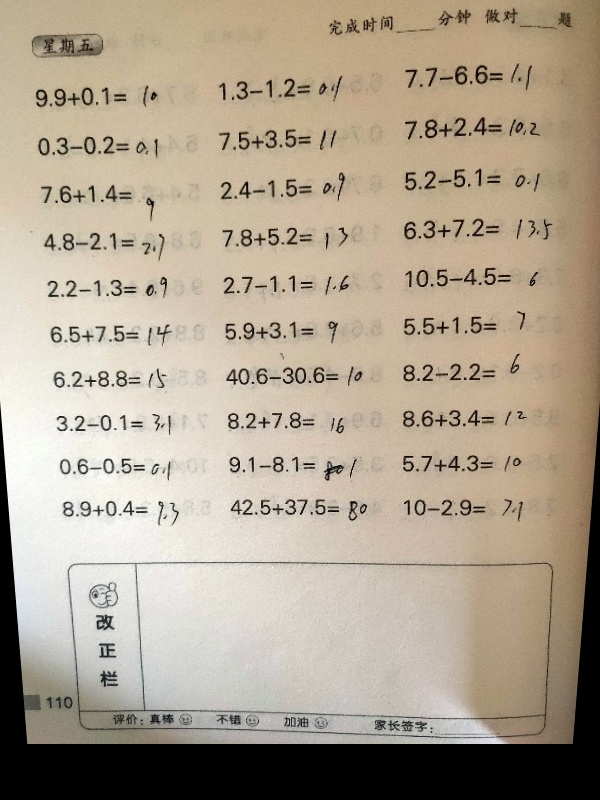equation: (394, 53, 543, 101), (389, 107, 549, 149), (228, 445, 378, 488), (225, 491, 377, 533), (205, 122, 356, 164), (210, 69, 360, 110), (400, 213, 560, 249), (397, 161, 550, 198), (217, 169, 366, 206), (34, 176, 162, 219), (396, 306, 532, 346), (40, 317, 182, 355), (36, 270, 175, 307), (398, 492, 540, 528), (394, 402, 540, 437), (218, 313, 349, 352), (394, 261, 540, 295), (38, 230, 177, 265), (217, 222, 366, 254), (214, 270, 353, 304), (223, 407, 381, 436), (216, 361, 364, 391), (47, 365, 185, 397), (30, 82, 176, 112), (400, 355, 530, 388), (58, 496, 181, 527), (32, 130, 162, 159), (397, 449, 538, 475), (52, 408, 174, 437), (55, 453, 174, 481), (113, 605, 143, 708)
